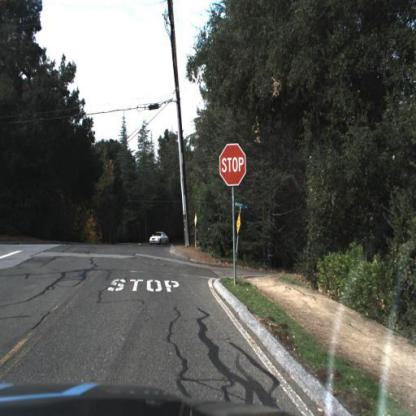car: (148, 231, 170, 246)
